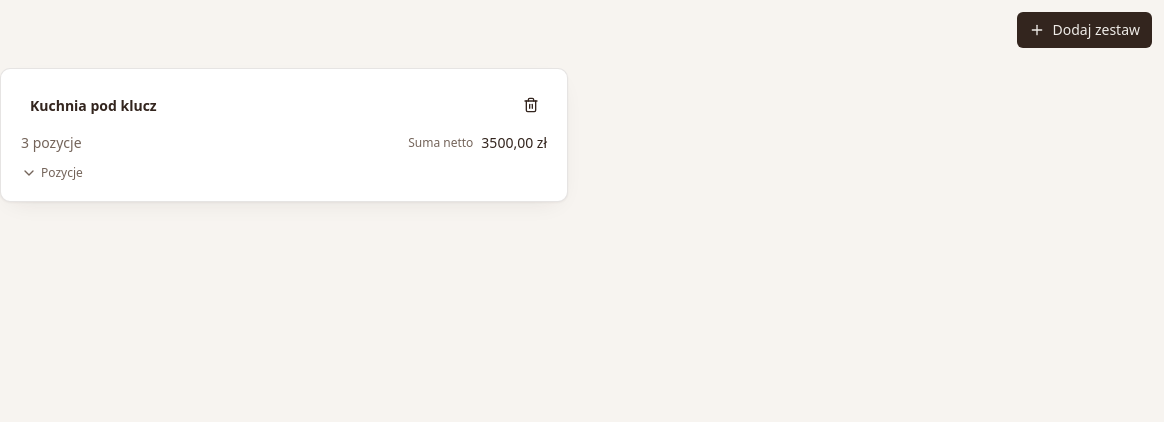
Test case: LibraryGroupsTab › rozwija podglad pozycji grupy
expect the text "Zabudowa" is not shown: met
What coordinates should you click on to do the following:
click the button "Pozycje"
I would click on:
 (52, 173)
Its box is [21,165,83,181].
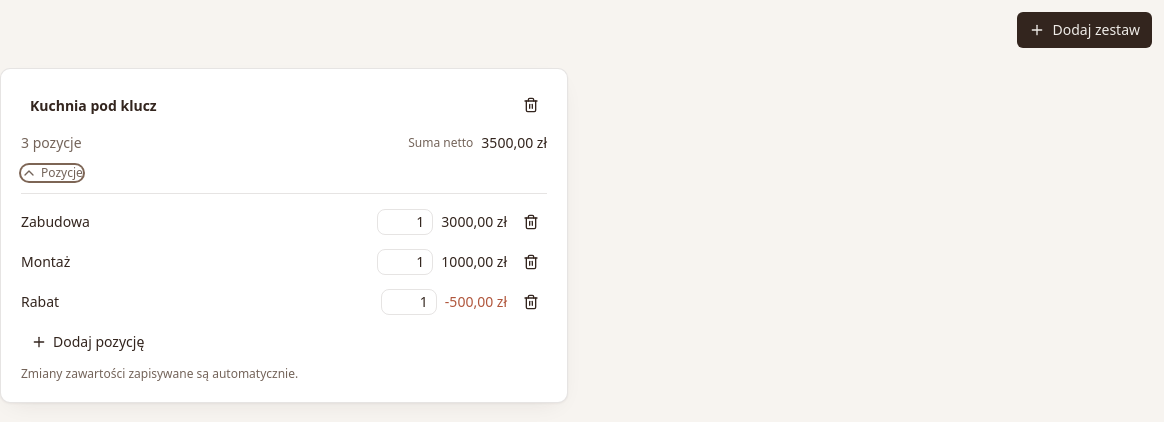
expect the text "Zabudowa" is shown: met, box [21,212,90,231]
expect the text "-500,00 zł" is shown: met, box [445,292,507,312]
